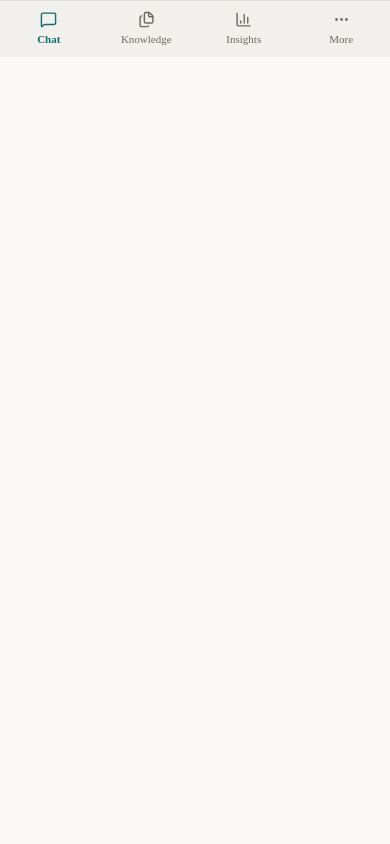
MobileNav › gives every destination a route for role=admin superAdmin=true
Click the button "More" at x=341, y=29, box [292, 1, 389, 57]
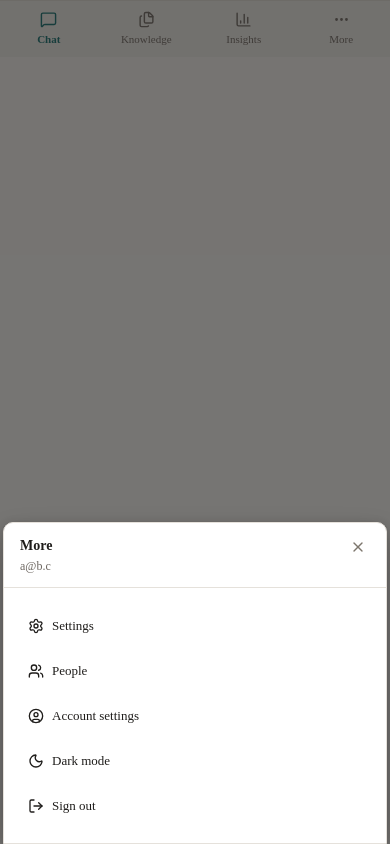
Check: the link "Chat" is shown, box [37, 11, 60, 45]
Check: the link "Settings" is shown, box [28, 618, 94, 634]
Check: the link "People" is shown, box [28, 662, 87, 678]
